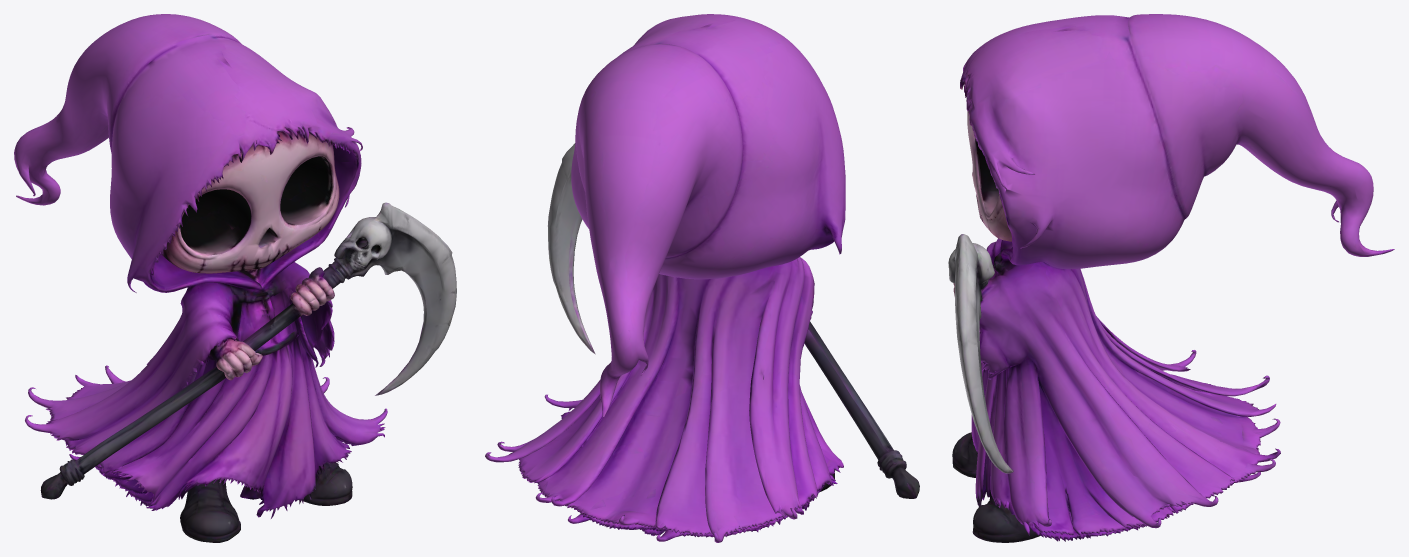
Rendered from pixellabs-glb-3402.glb.
The picture shows the model from 3 angles, left to right: view 1: azimuth 30°, elevation 25°; view 2: azimuth 150°, elevation 25°; view 3: azimuth 270°, elevation 25°; orthographic projection. The views are drawn at different scales.
Visible parts, largest first — view 1: material; view 2: material; view 3: material.
Boxes of the visible parts, x1=… form: material: x1=14, y1=14, x2=456, y2=542; material: x1=485, y1=14, x2=919, y2=542; material: x1=948, y1=14, x2=1394, y2=542.
Bounding box in the file's own units: 0.8171 × 0.9075 × 0.7769.
1 material, 1 textured.
